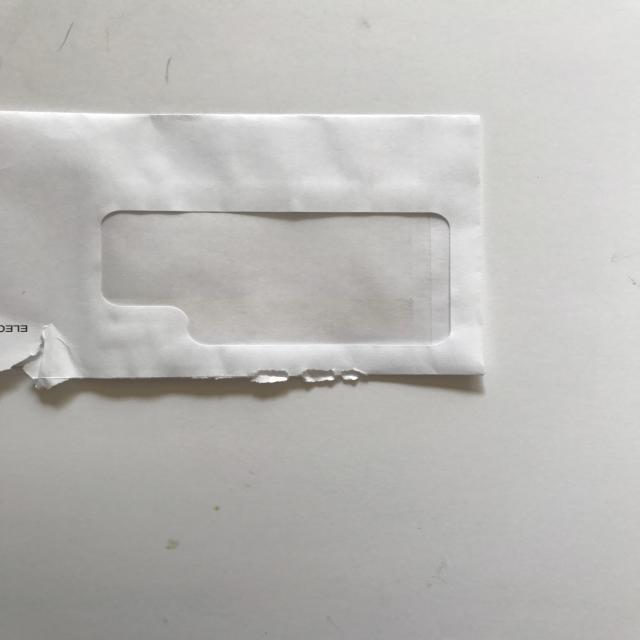paper: (1, 110, 492, 393)
